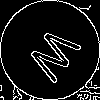W: (25, 25, 90, 90)
